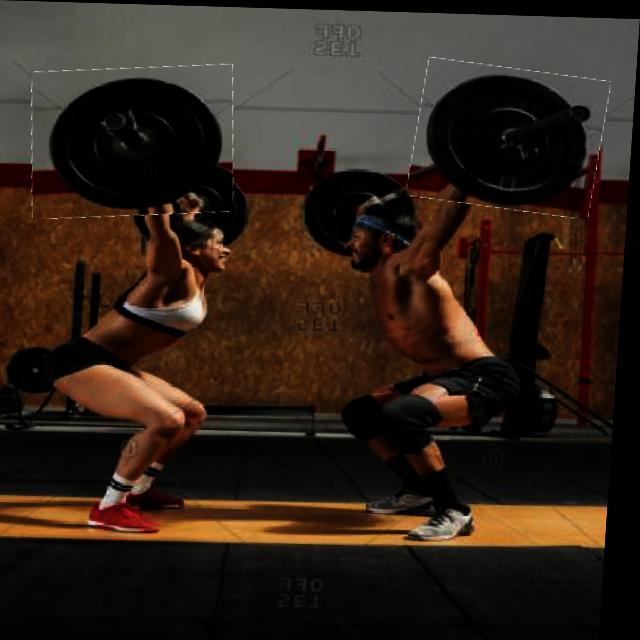barbell: (29, 63, 242, 221), (412, 59, 609, 212)
